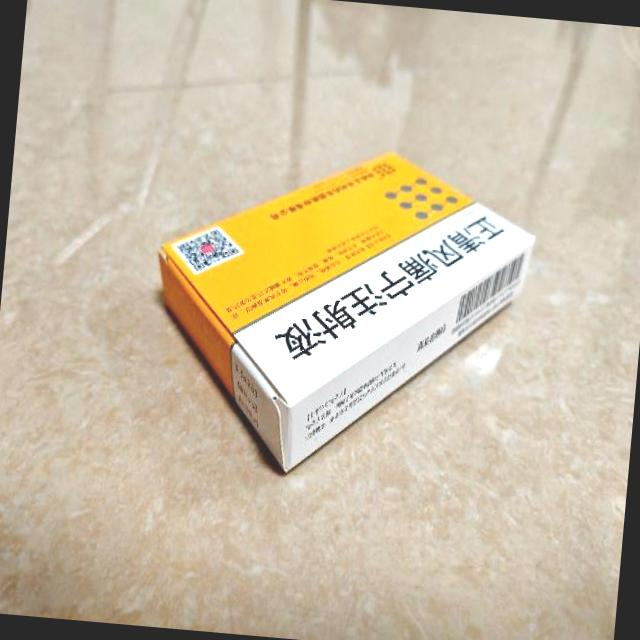box: (140, 133, 542, 492)
